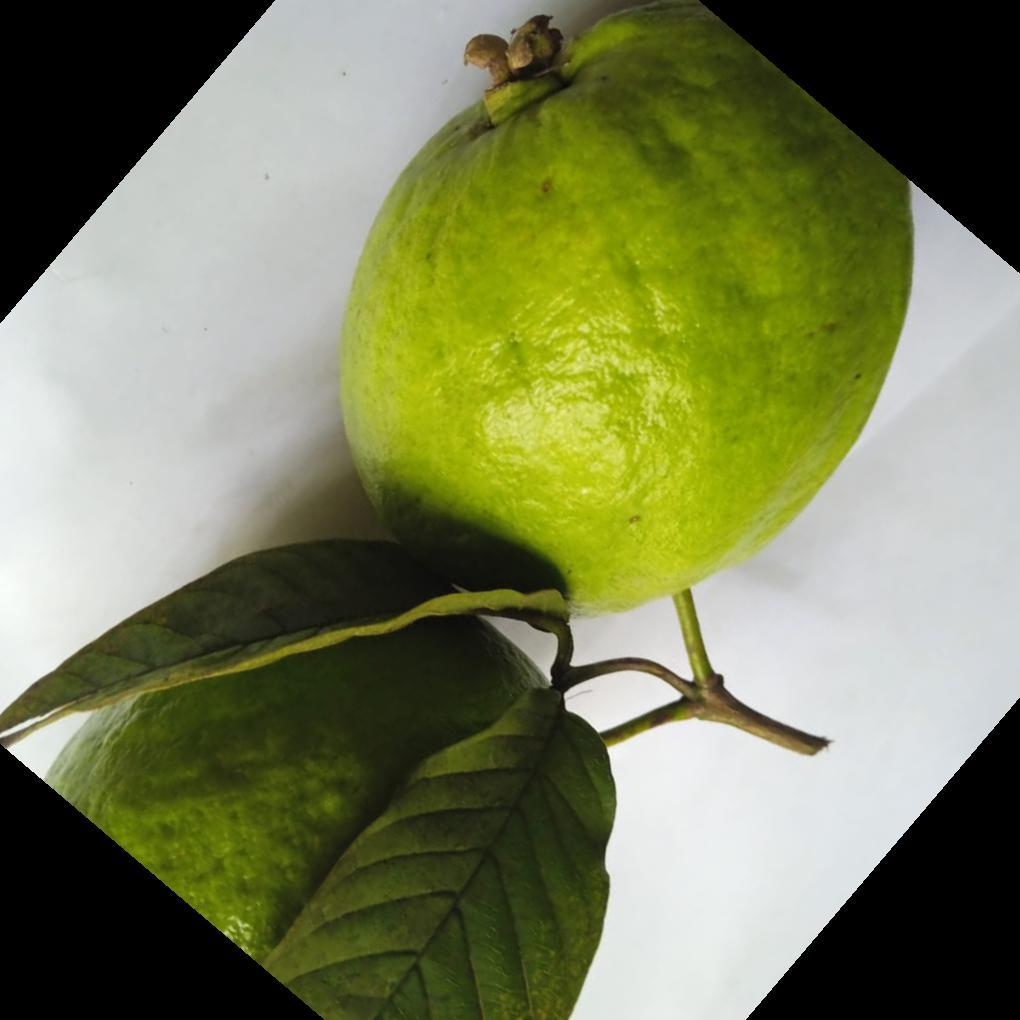FreshGuava: (336, 0, 915, 755)
